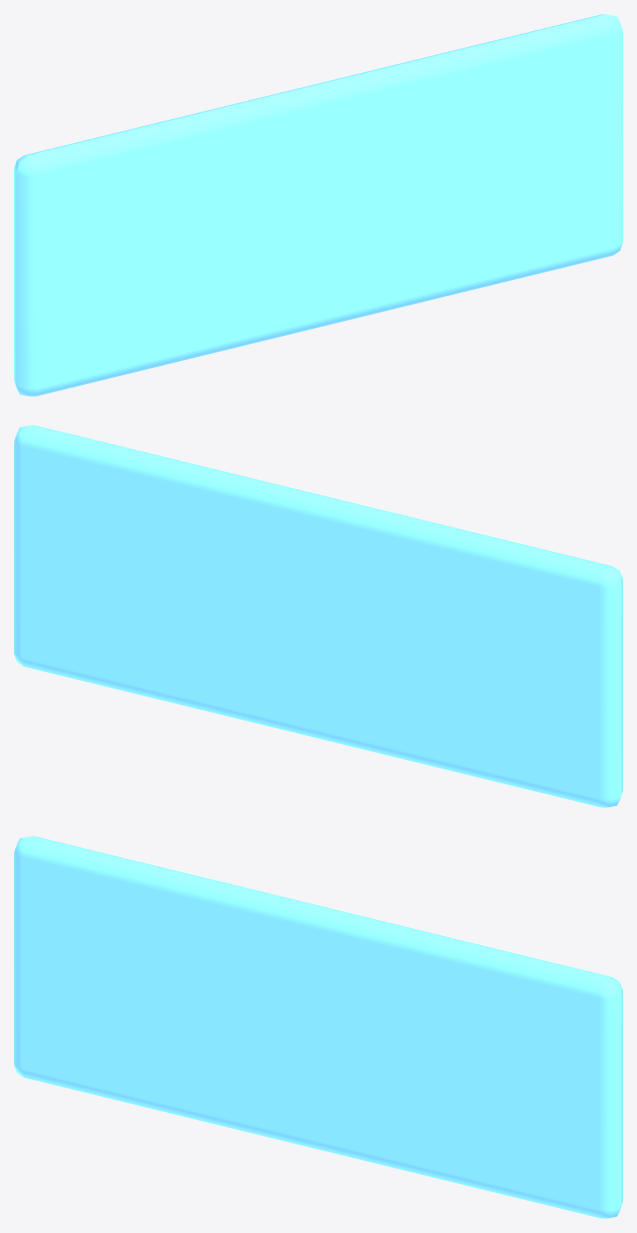
The model's file is SEDAN_Curved_OLED_Instrument_Dis_98.glb.
3 views of the same model, one above another, from view 1: azimuth 30°, elevation 25°; view 2: azimuth 150°, elevation 25°; view 3: azimuth 330°, elevation 25° (orthographic).
Parts seen in each view (by area): view 1: SEDAN_Curved_OLED_Instrument_Display; view 2: SEDAN_Curved_OLED_Instrument_Display; view 3: SEDAN_Curved_OLED_Instrument_Display.
Boxes of the visible parts, box(x1,y1,x2,y2) form: SEDAN_Curved_OLED_Instrument_Display: box(14, 14, 622, 396); SEDAN_Curved_OLED_Instrument_Display: box(14, 425, 622, 807); SEDAN_Curved_OLED_Instrument_Display: box(14, 836, 622, 1218).
Bounding box in the file's own units: 0.42 × 0.16 × 0.02.
